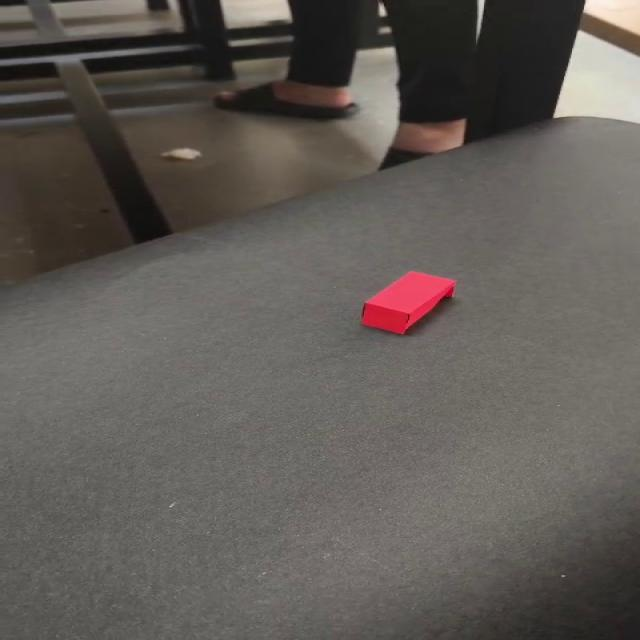red block: (359, 270, 456, 334)
